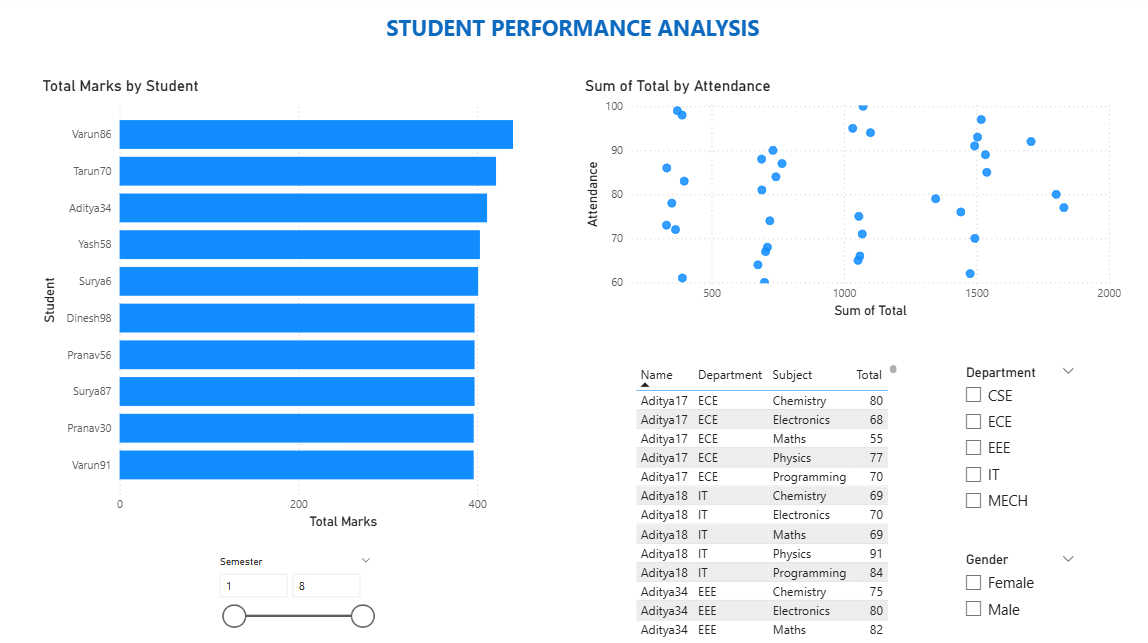

The dashboard page shown, as its layout file describes it:
{"tool":"powerbi","page":{"name":"Page 3","canvas":[1280,720],"ordinal":2},"visuals":[{"type":"textbox","box":[421.3,15.1,436.4,74.1],"z":0},{"type":"tableEx","fields":{"Values":["Students.Name","Students.Department","Marks.Subject","Sum(Marks.Total)"]},"box":[694.3,400.7,297.8,308.7],"z":1000},{"type":"barChart","fields":{"Category":["Students.Name"],"Y":["Sum(Marks.Total)"]},"box":[43.9,89.2,595.5,502.2],"z":2000},{"type":"scatterChart","fields":{"X":["Sum(Marks.Total)"],"Y":["Students.Attendance"]},"box":[639.5,89.2,598.3,270.3],"z":3000},{"type":"slicer","fields":{"Values":["Students.Department"]},"box":[1049.7,400.7,144.1,190.7],"z":4000},{"type":"slicer","fields":{"Values":["Students.Gender"]},"box":[1049.7,606.5,144.1,89.2],"z":5000},{"type":"slicer","fields":{"Values":["Marks.Semester"]},"box":[230.5,610.6,190.7,98.8],"z":6000}]}

Visuals, with their boxes in screenshot pixels (x1, y1, x2, y2), scaled from the page's 1280x720 canvas onto the 1148x643 screenshot:
textbox: [378,13,769,80]
tableEx - Students.Name x Students.Department: [623,358,890,634]
barChart - Students.Name x Sum(Marks.Total): [39,80,573,528]
scatterChart - Sum(Marks.Total) x Students.Attendance: [574,80,1110,321]
slicer - Students.Department: [941,358,1071,528]
slicer - Students.Gender: [941,542,1071,621]
slicer - Marks.Semester: [207,545,378,634]
